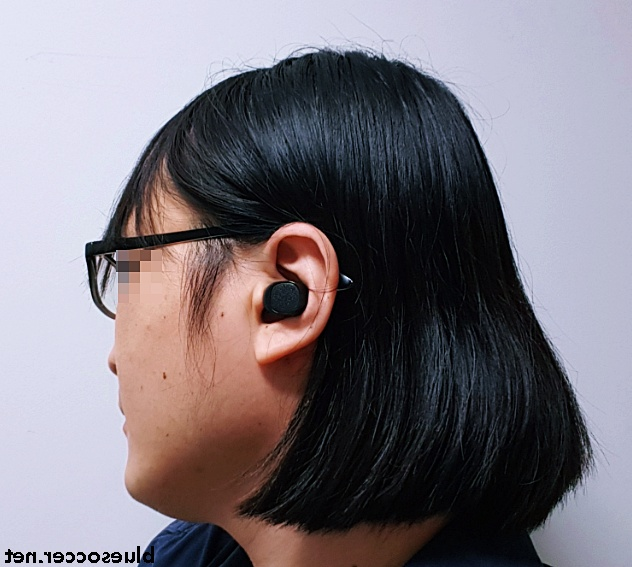earphone: (249, 220, 340, 363)
